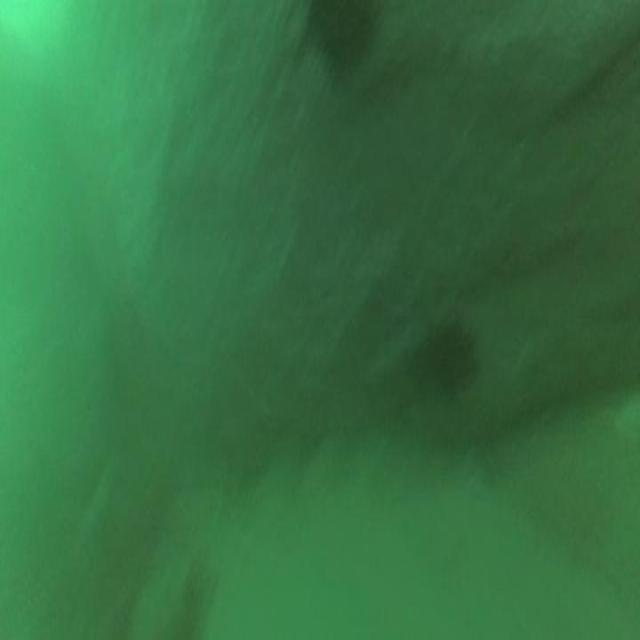echinus: (302, 3, 388, 106), (422, 305, 484, 411)
